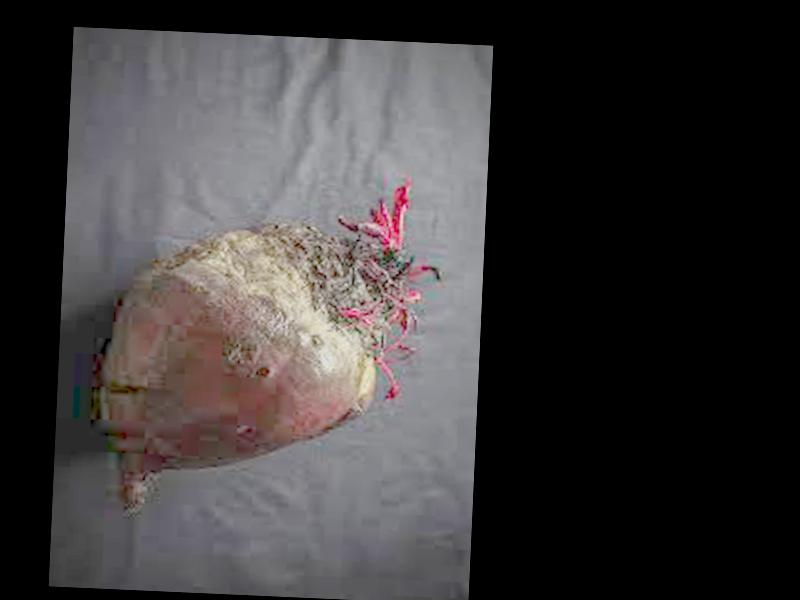Beet: (97, 165, 445, 528)
